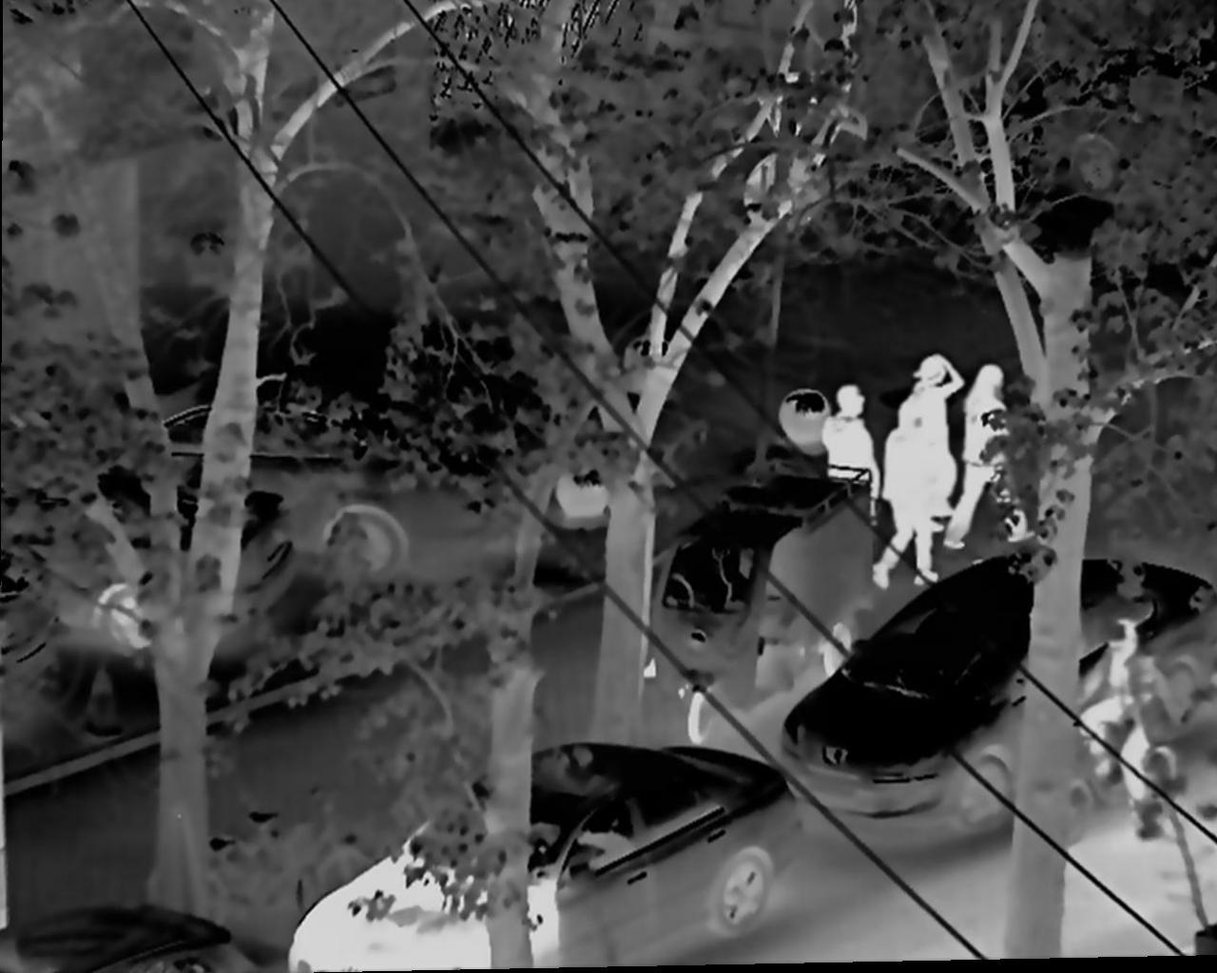person: (1082, 615, 1203, 828), (952, 355, 1032, 551), (883, 396, 942, 587), (910, 344, 958, 524), (824, 383, 891, 501)
